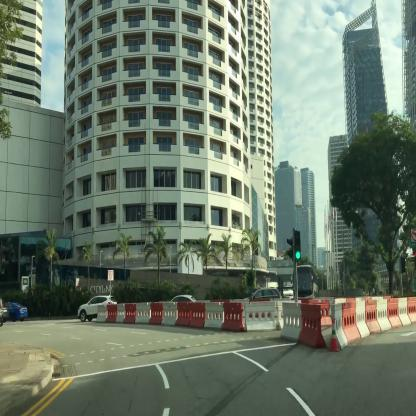green_traffic_light: (295, 228, 300, 260)
